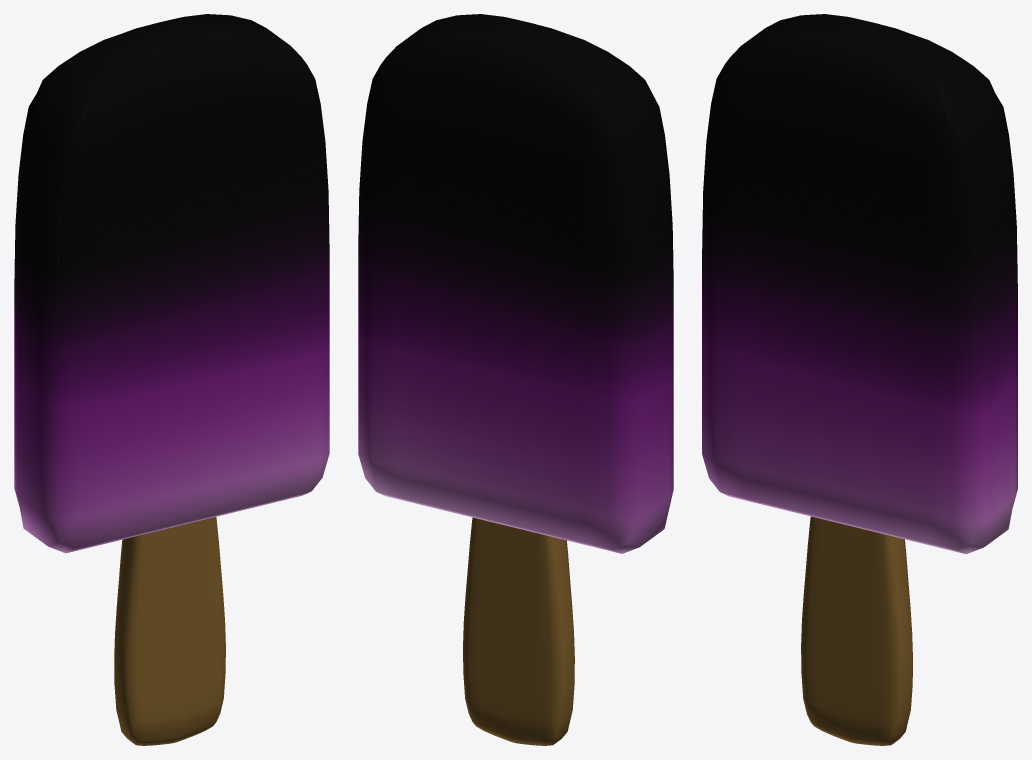
Rendered from PurplePopsicle.FBX.
3 views of the same model, side by side, from view 1: azimuth 30°, elevation 25°; view 2: azimuth 150°, elevation 25°; view 3: azimuth 330°, elevation 25° (orthographic).
Visible parts, largest first — view 1: Box001, Box002; view 2: Box001, Box002; view 3: Box001, Box002.
Part boxes in pixels (box(x1,y1,x2,y2)): Box001: box(14, 14, 329, 553); Box002: box(114, 517, 225, 745); Box001: box(358, 14, 673, 553); Box002: box(463, 517, 574, 745); Box001: box(702, 14, 1017, 554); Box002: box(801, 516, 912, 745).
Bounding box in the file's own units: 10 × 23.8 × 3.
2 materials, 1 textured.
